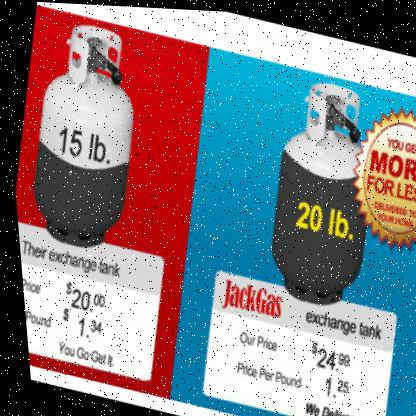gas-tank: (1, 10, 175, 273), (240, 65, 405, 329)
